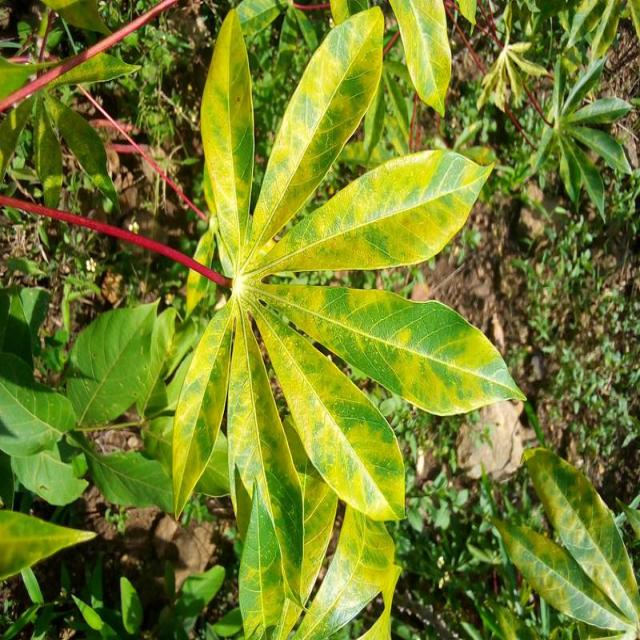cassava leaf: (2, 1, 527, 638)
